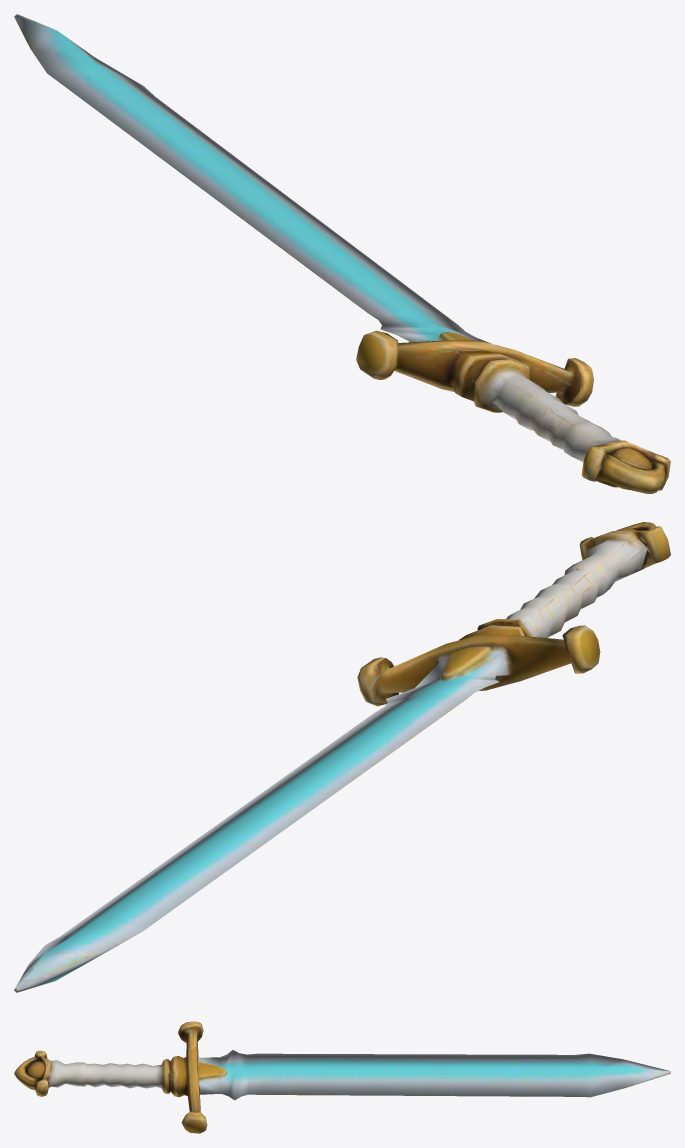
File: f_claymore.fbx
3 renders of one model, top to bottom at view 1: azimuth 30°, elevation 25°; view 2: azimuth 150°, elevation 25°; view 3: azimuth 270°, elevation 25°, orthographic. The views are drawn at different scales.
Parts seen in each view (by area): view 1: tripo_node_ecefcd67-86bb-4f70-b9e3-c7043d18bc33; view 2: tripo_node_ecefcd67-86bb-4f70-b9e3-c7043d18bc33; view 3: tripo_node_ecefcd67-86bb-4f70-b9e3-c7043d18bc33.
Boxes of the visible parts, left/top/right/bottom form: tripo_node_ecefcd67-86bb-4f70-b9e3-c7043d18bc33: left=14, top=14, right=670, bottom=493; tripo_node_ecefcd67-86bb-4f70-b9e3-c7043d18bc33: left=14, top=522, right=670, bottom=992; tripo_node_ecefcd67-86bb-4f70-b9e3-c7043d18bc33: left=14, top=1021, right=670, bottom=1133.
Bounding box in the file's own units: 0.3655 × 0.1806 × 1.76.
1 material, 1 textured.
